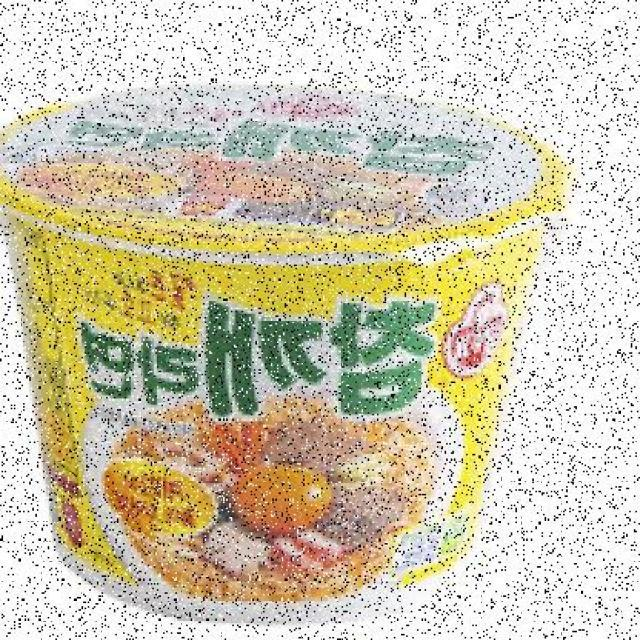Miscellaneous: (0, 71, 588, 627)
